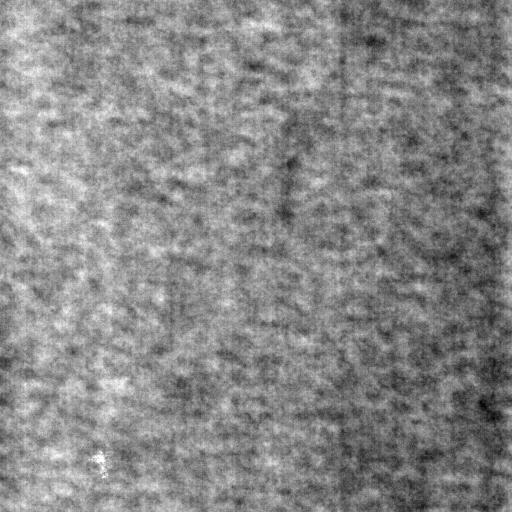DefectTypeA: (89, 448, 113, 478)
